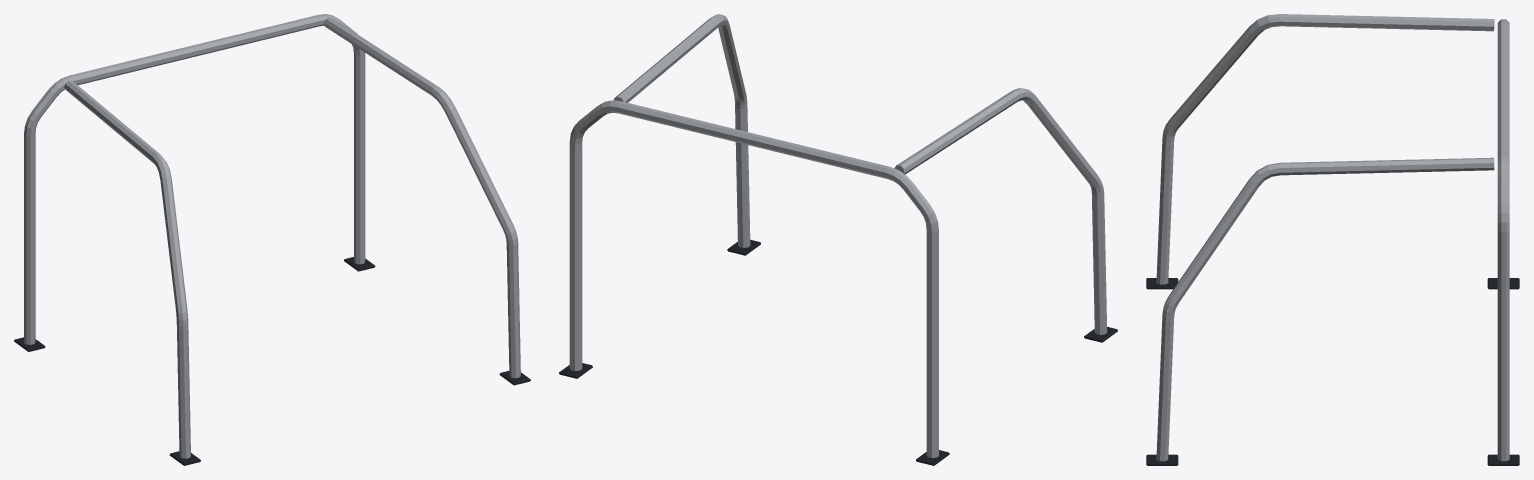
File: roll_cage_bolt_in.glb
3 renders of one model, left to right at view 1: azimuth 30°, elevation 25°; view 2: azimuth 150°, elevation 25°; view 3: azimuth 270°, elevation 25°, orthographic. The views are drawn at different scales.
Visible parts, largest first — view 1: model; view 2: model; view 3: model.
Part boxes in pixels (<box>): model: <box>14,14,530,465</box>; model: <box>559,14,1117,465</box>; model: <box>1146,14,1519,465</box>.
Size of the model in its own units: 1.38 by 0.9836 by 1.17.
2 materials, 1 textured.
